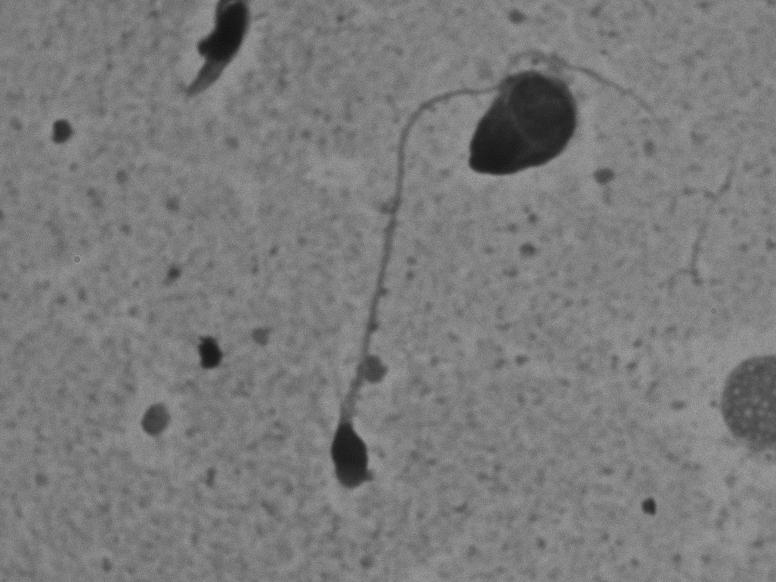Abnormal: (291, 34, 674, 496)
